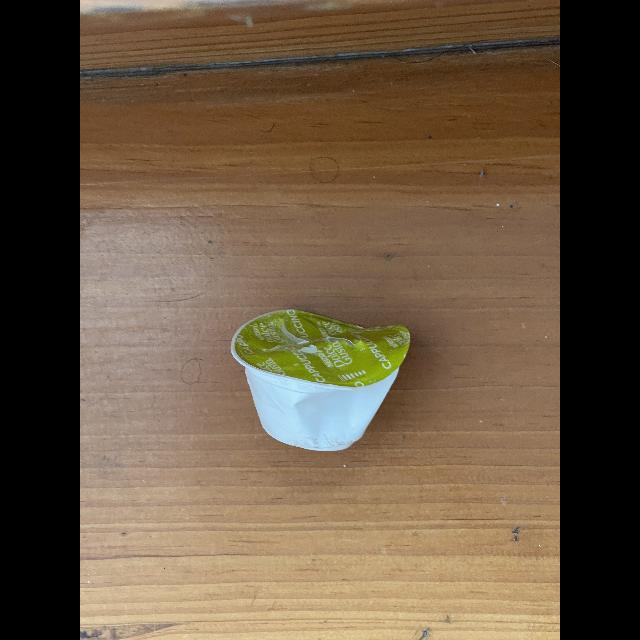damaged_capsule: (226, 300, 418, 458)
